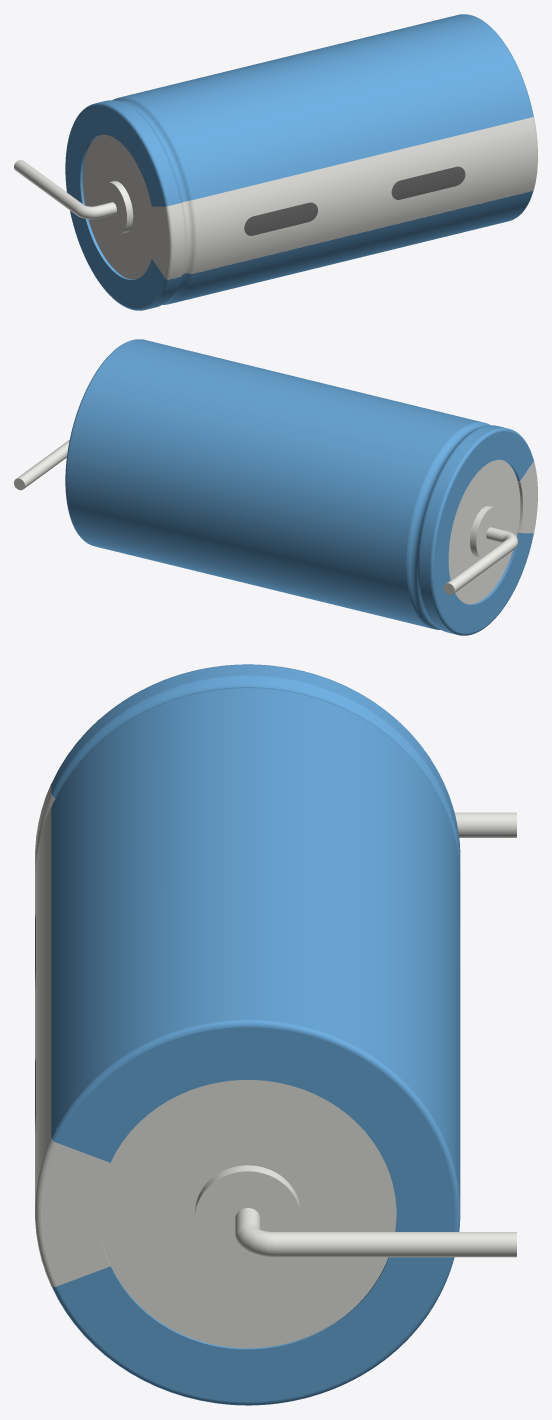
The model's file is CP_Axial_L30.0mm_D15.0mm_P35.00mm_Horizontal.glb.
3 renders of one model, top to bottom at view 1: azimuth 30°, elevation 25°; view 2: azimuth 150°, elevation 25°; view 3: azimuth 270°, elevation 25°, orthographic. The views are drawn at different scales.
Visible parts, largest first — view 1: Shape_IndexedFaceSet.009, Shape_IndexedFaceSet.049, Shape_IndexedFaceSet.006, Shape_IndexedFaceSet.064, Shape_IndexedFaceSet, Shape_IndexedFaceSet.018, Shape_IndexedFaceSet.028, Shape_IndexedFaceSet.005, Shape_IndexedFaceSet.003, Shape_IndexedFaceSet.051, Shape_IndexedFaceSet.041, Shape_IndexedFaceSet.062 (+5 smaller); view 2: Shape_IndexedFaceSet.009, Shape_IndexedFaceSet.006, Shape_IndexedFaceSet.064, Shape_IndexedFaceSet, Shape_IndexedFaceSet.005, Shape_IndexedFaceSet.003, Shape_IndexedFaceSet.051, Shape_IndexedFaceSet.041, Shape_IndexedFaceSet.007, Shape_IndexedFaceSet.062, Shape_IndexedFaceSet.055, Shape_IndexedFaceSet.002 (+2 smaller); view 3: Shape_IndexedFaceSet.009, Shape_IndexedFaceSet.059, Shape_IndexedFaceSet.012, Shape_IndexedFaceSet.046, Shape_IndexedFaceSet.011, Shape_IndexedFaceSet.055, Shape_IndexedFaceSet.057, Shape_IndexedFaceSet.049, Shape_IndexedFaceSet, Shape_IndexedFaceSet.005, Shape_IndexedFaceSet.002, Shape_IndexedFaceSet.051 (+2 smaller).
Boxes of the visible parts, x1,y1,x2,y2 form: Shape_IndexedFaceSet.009: [119, 14, 532, 303]; Shape_IndexedFaceSet.049: [193, 117, 536, 273]; Shape_IndexedFaceSet.006: [65, 106, 165, 308]; Shape_IndexedFaceSet.064: [82, 134, 154, 279]; Shape_IndexedFaceSet: [96, 100, 179, 309]; Shape_IndexedFaceSet.018: [391, 166, 465, 199]; Shape_IndexedFaceSet.028: [244, 202, 317, 235]; Shape_IndexedFaceSet.005: [114, 99, 189, 304]; Shape_IndexedFaceSet.003: [65, 103, 168, 310]; Shape_IndexedFaceSet.051: [14, 159, 83, 214]; Shape_IndexedFaceSet.041: [151, 206, 168, 277]; Shape_IndexedFaceSet.062: [100, 182, 126, 234]; Shape_IndexedFaceSet.009: [66, 339, 481, 628]; Shape_IndexedFaceSet.006: [434, 431, 533, 633]; Shape_IndexedFaceSet.064: [448, 459, 520, 604]; Shape_IndexedFaceSet: [419, 425, 504, 634]; Shape_IndexedFaceSet.005: [409, 424, 488, 629]; Shape_IndexedFaceSet.003: [430, 428, 533, 635]; Shape_IndexedFaceSet.051: [446, 538, 515, 593]; Shape_IndexedFaceSet.041: [520, 462, 537, 533]; Shape_IndexedFaceSet.007: [406, 422, 490, 629]; Shape_IndexedFaceSet.062: [476, 507, 502, 557]; Shape_IndexedFaceSet.055: [17, 440, 69, 488]; Shape_IndexedFaceSet.002: [417, 425, 489, 630]; Shape_IndexedFaceSet.009: [51, 688, 460, 1203]; Shape_IndexedFaceSet.059: [99, 1080, 396, 1348]; Shape_IndexedFaceSet.012: [57, 1027, 454, 1402]; Shape_IndexedFaceSet.046: [41, 1143, 110, 1286]; Shape_IndexedFaceSet.011: [51, 1019, 460, 1405]; Shape_IndexedFaceSet.055: [273, 1232, 516, 1257]; Shape_IndexedFaceSet.057: [194, 1171, 300, 1267]; Shape_IndexedFaceSet.049: [35, 807, 51, 1203]; Shape_IndexedFaceSet: [51, 665, 460, 857]; Shape_IndexedFaceSet.005: [53, 680, 454, 836]; Shape_IndexedFaceSet.002: [51, 675, 460, 870]; Shape_IndexedFaceSet.051: [454, 812, 516, 837].
Size of the model in its own units: 14.13 by 5.91 by 6.7.
